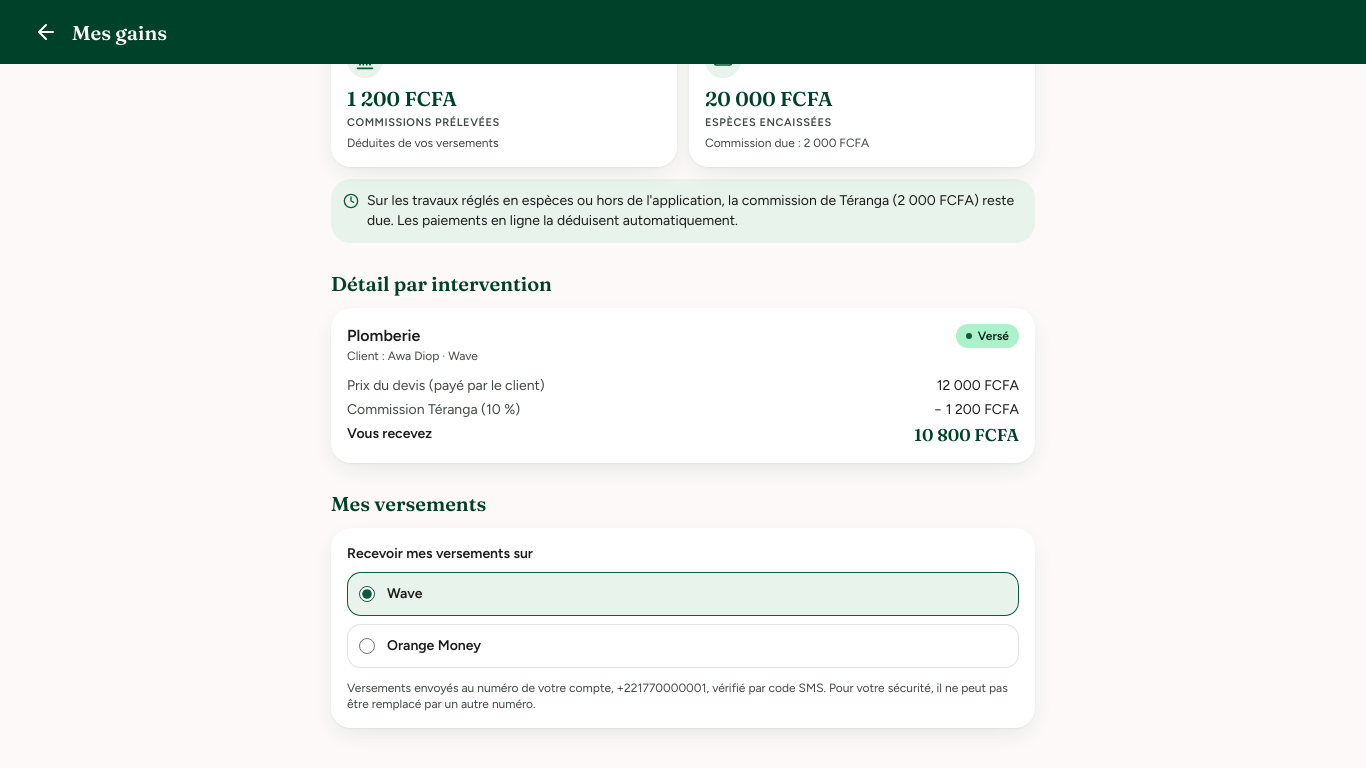
Test: EarningsScreen › change le moyen de versement, toujours vers le numéro vérifié du compte
(page scrolled)
Expected: the text "numéro de votre compte, +221770000001" is shown, [347, 680, 1019, 712]
Click the radio button labelled "Orange Money" at {"x": 367, "y": 646}, box [359, 638, 375, 654]
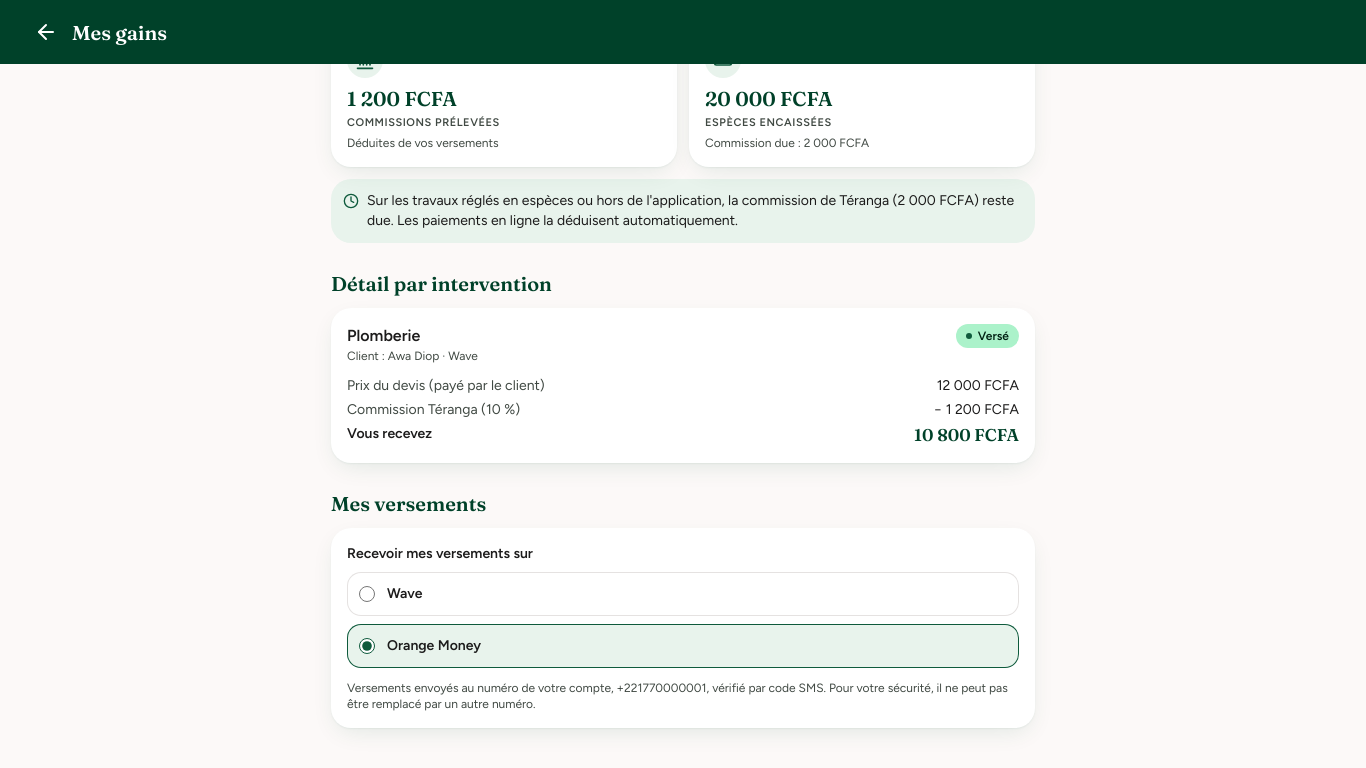
Expected: the radio button labelled "Orange Money" is checked, [359, 638, 375, 654]
